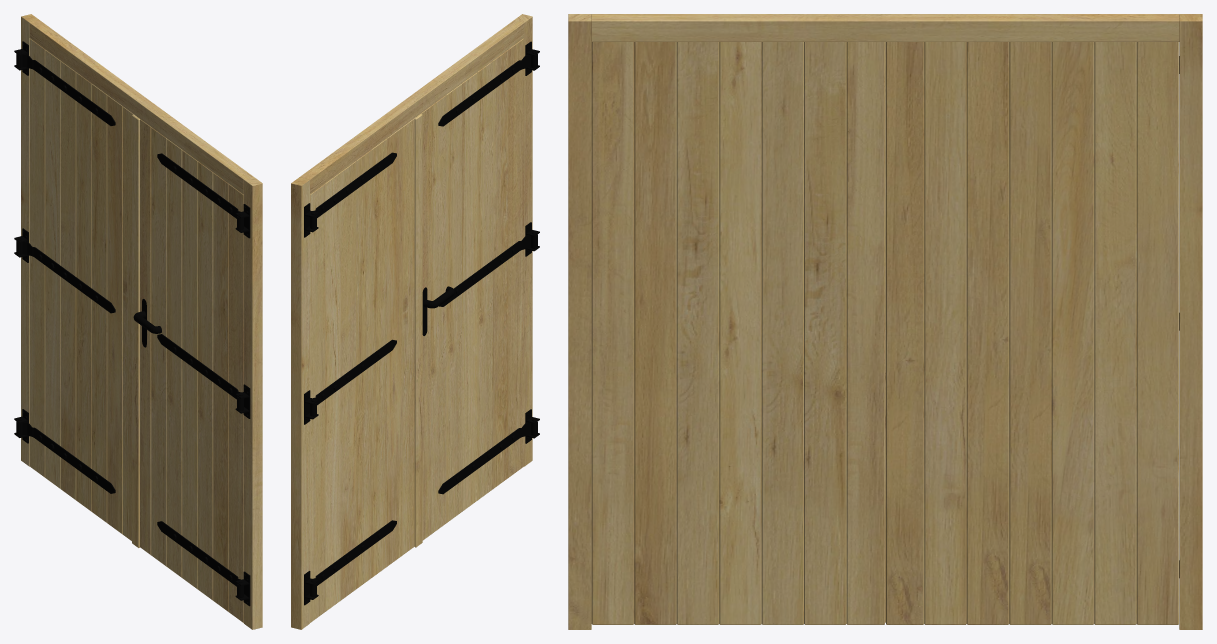
Rendered from door_dubbele_dichte_deur.glb.
The picture shows the model from 3 angles, left to right: view 1: azimuth 30°, elevation 25°; view 2: azimuth 150°, elevation 25°; view 3: azimuth 270°, elevation 25°; orthographic projection. The views are drawn at different scales.
Visible parts, largest first — view 1: door_dubbele_dichte_deur_wood, door_dubbele_dichte_deur_hinges; view 2: door_dubbele_dichte_deur_wood, door_dubbele_dichte_deur_hinges; view 3: door_dubbele_dichte_deur_wood.
Boxes of the visible parts, x1,y1,x2,y2 form: door_dubbele_dichte_deur_wood: (21,14,262,629); door_dubbele_dichte_deur_hinges: (14,41,250,606); door_dubbele_dichte_deur_wood: (291,14,532,629); door_dubbele_dichte_deur_hinges: (304,41,539,605); door_dubbele_dichte_deur_wood: (568,14,1202,629).
Bounding box in the file's own units: 0.1063 × 2.01 × 1.9.
Materials: 2 (1 with a texture image).
